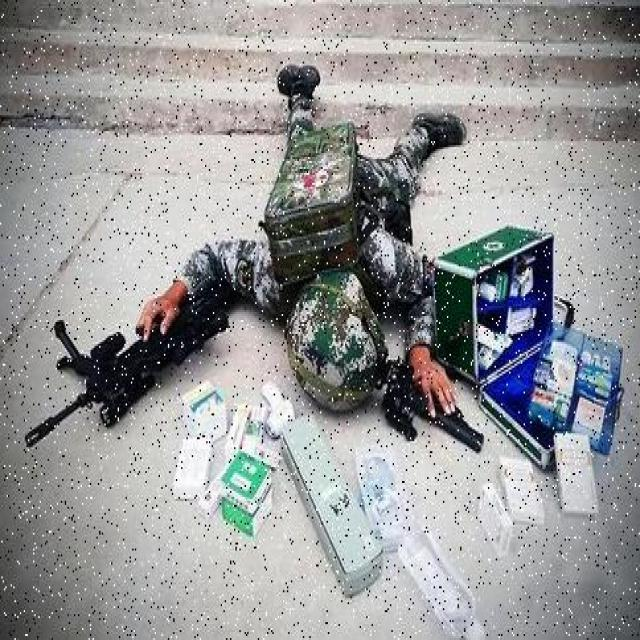fall: (214, 86, 442, 410)
